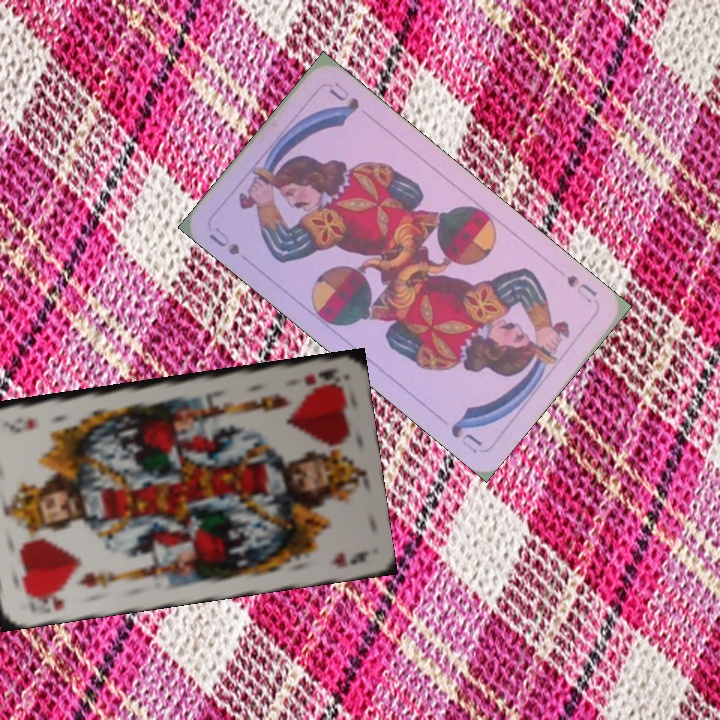HK: (22, 586, 69, 613), (300, 364, 341, 388)
SU: (204, 223, 243, 258), (562, 270, 600, 305)
